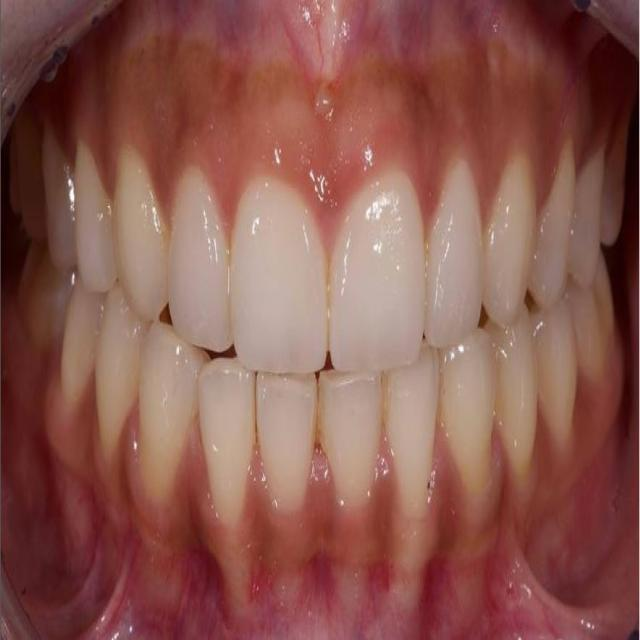1st Molar: (568, 266, 618, 389), (20, 238, 72, 350), (4, 112, 45, 231), (603, 134, 626, 242)
1st Premolar: (96, 290, 145, 464), (529, 140, 577, 310), (494, 315, 538, 478), (75, 142, 119, 294)
2nd Premolar: (536, 306, 576, 451), (61, 284, 104, 409), (43, 130, 77, 270), (571, 151, 604, 279)
Canine: (140, 322, 208, 506), (114, 147, 168, 323), (484, 152, 537, 328), (442, 332, 496, 502)
Central Incisor: (328, 167, 425, 375), (230, 180, 328, 375), (319, 373, 382, 511), (257, 375, 317, 516)
Lateral Incisor: (169, 167, 232, 355), (426, 160, 483, 350), (198, 359, 255, 529), (383, 351, 440, 518)
